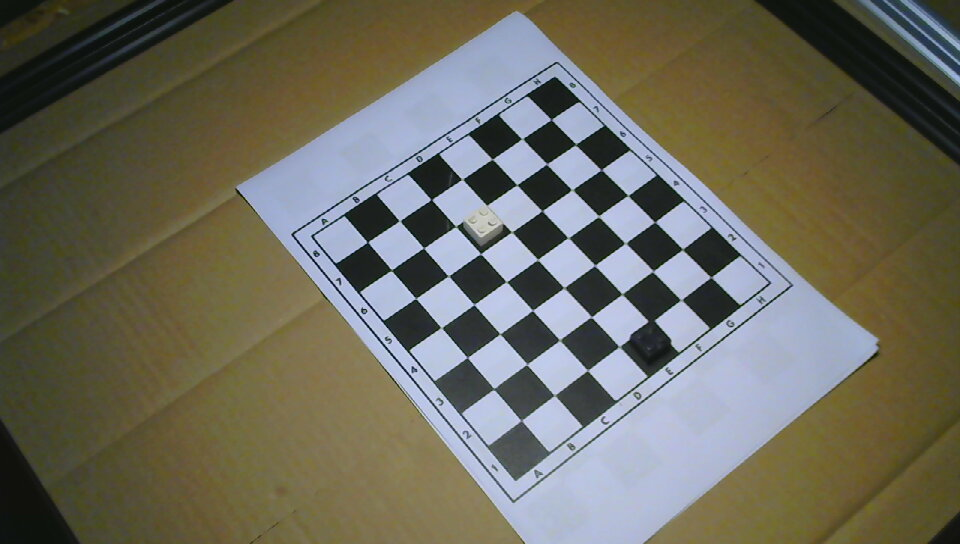bp: (630, 320, 672, 364)
wp: (463, 206, 504, 246)
